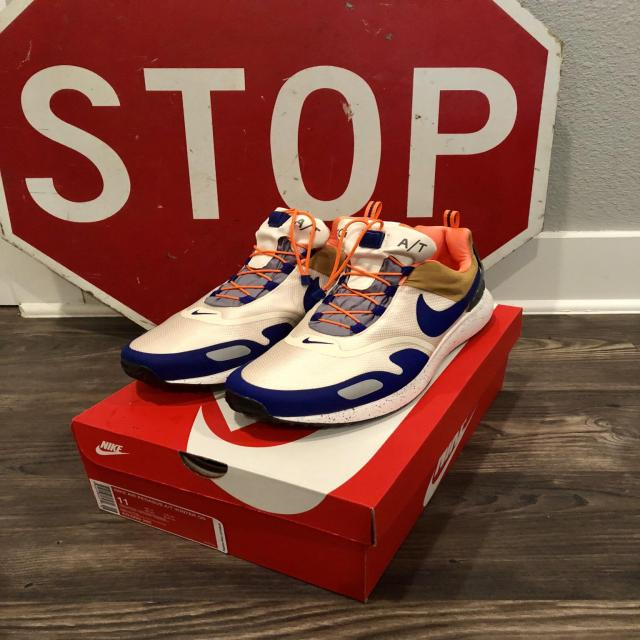shoe: (229, 214, 502, 429), (109, 208, 348, 384)
